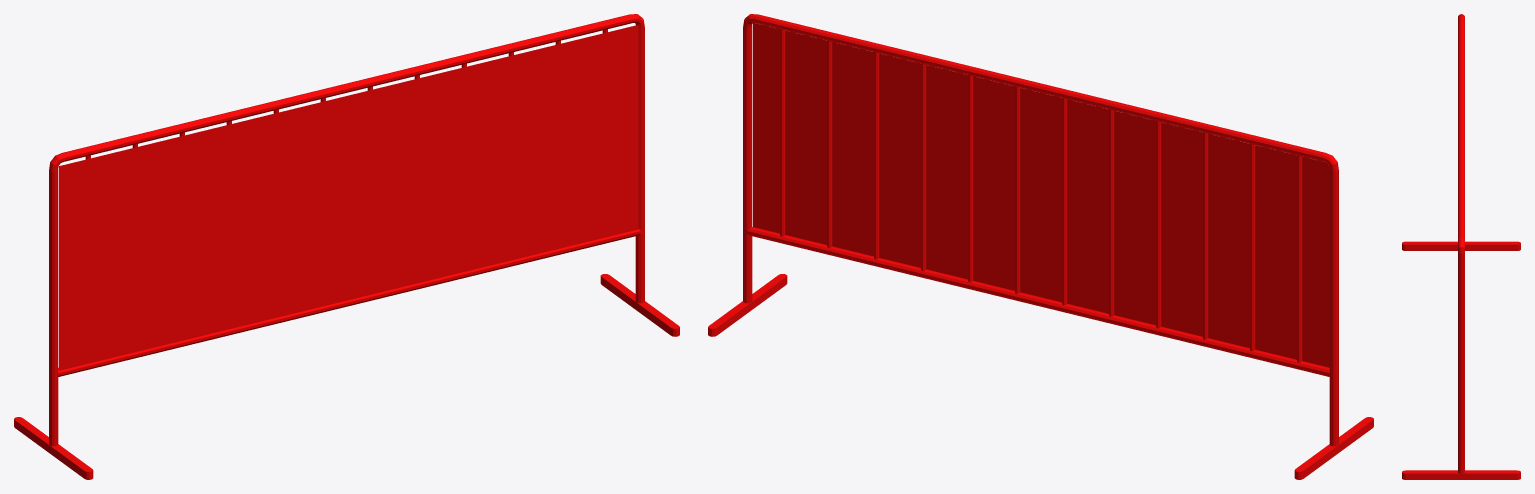
The model's file is Valla1_Alex_Basterra.fbx.
The picture shows the model from 3 angles, left to right: view 1: azimuth 30°, elevation 25°; view 2: azimuth 150°, elevation 25°; view 3: azimuth 270°, elevation 25°; orthographic projection. The views are drawn at different scales.
Parts seen in each view (by area): view 1: pPlane1, pTorus1, pTorus2; view 2: pPlane1, pTorus1, pTorus2, pTorus14, pTorus12, pTorus8, pTorus6, pTorus13, pTorus11, pTorus10, pTorus9, pTorus7 (+3 smaller); view 3: pTorus1.
Part boxes in pixels (<box>): pPlane1: <box>59,25,638,370</box>; pTorus1: <box>14,14,679,479</box>; pTorus2: <box>57,229,641,376</box>; pPlane1: <box>753,23,1329,367</box>; pTorus1: <box>708,14,1373,479</box>; pTorus2: <box>746,227,1330,376</box>; pTorus14: <box>780,29,785,236</box>; pTorus12: <box>874,52,879,259</box>; pTorus8: <box>1062,98,1067,305</box>; pTorus6: <box>1156,121,1161,328</box>; pTorus13: <box>827,40,832,247</box>; pTorus11: <box>921,63,926,270</box>; pTorus10: <box>968,75,973,282</box>; pTorus9: <box>1015,86,1020,293</box>; pTorus7: <box>1109,109,1114,316</box>; pTorus1: <box>1402,14,1520,479</box>.
Bounding box in the file's own units: 204 × 97.17 × 44.1.
